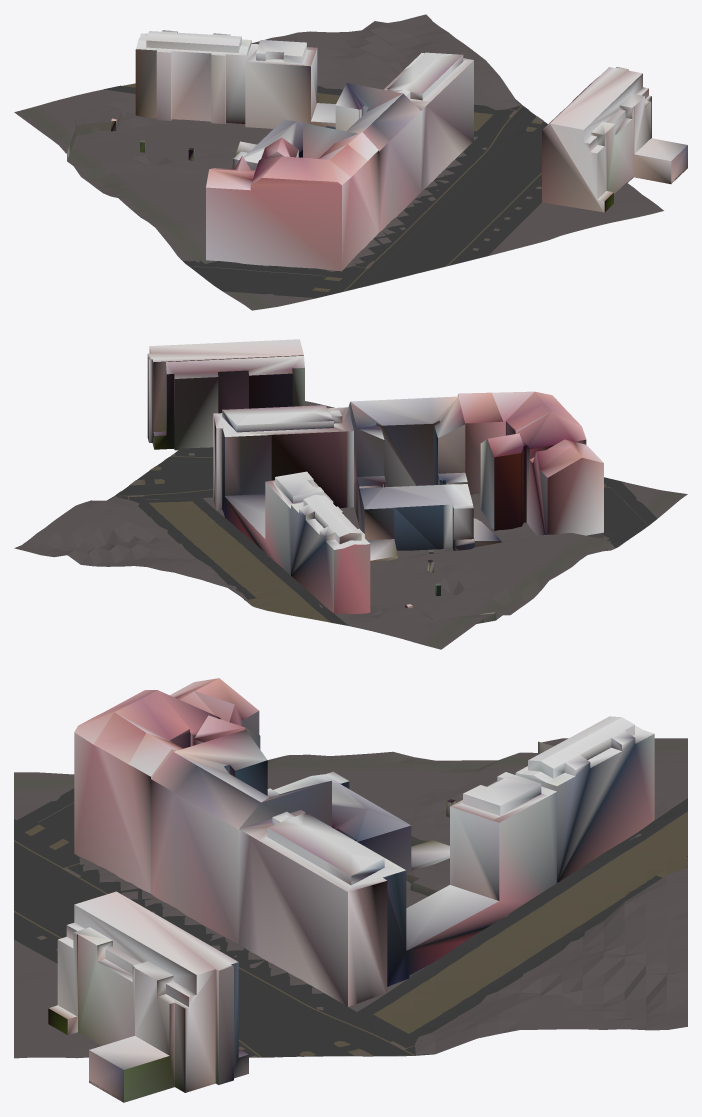
3 views of the same model, one above another, from view 1: azimuth 30°, elevation 25°; view 2: azimuth 150°, elevation 25°; view 3: azimuth 270°, elevation 25° (orthographic). The views are drawn at different scales.
Parts seen in each view (by area): view 1: c_p00_m11; view 2: c_p00_m11; view 3: c_p00_m11.
Boxes of the visible parts, <box> form: c_p00_m11: <box>14,14,687,310</box>; c_p00_m11: <box>14,339,687,649</box>; c_p00_m11: <box>14,678,687,1102</box>.
Size of the model in its own units: 147 by 30.07 by 128.
